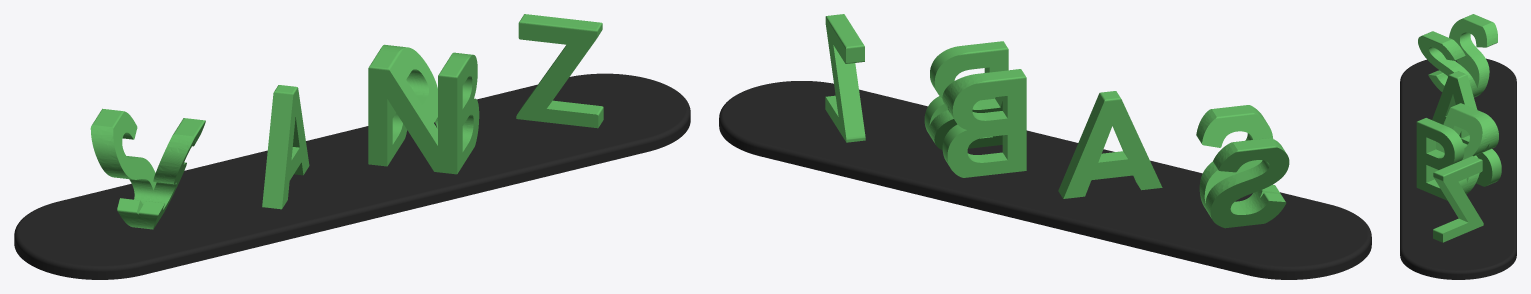
File: SabiVinz.glb
3 views of the same model, side by side, from view 1: azimuth 30°, elevation 25°; view 2: azimuth 150°, elevation 25°; view 3: azimuth 270°, elevation 25° (orthographic). The views are drawn at different scales.
Parts seen in each view (by area): view 1: Node2, Node1; view 2: Node2, Node1; view 3: Node2, Node1.
Boxes of the visible parts, bbox=[...] form: Node2: bbox=[14, 73, 690, 279]; Node1: bbox=[90, 14, 603, 229]; Node2: bbox=[719, 81, 1371, 279]; Node1: bbox=[825, 14, 1289, 228]; Node2: bbox=[1400, 58, 1516, 279]; Node1: bbox=[1416, 14, 1501, 242].
Size of the model in its own units: 168 by 27 by 38.22.
